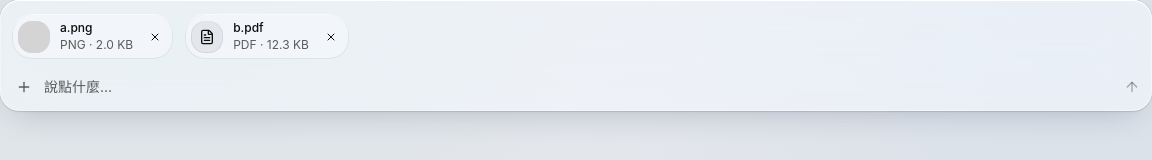
Test case: 附件列 › 移除鈕：該張消失並 revoke 預覽網址，其他留著；沒有附件時整列不畫
Click the button named "移除 a.png".
click(155, 36)  # box [143,24,167,48]
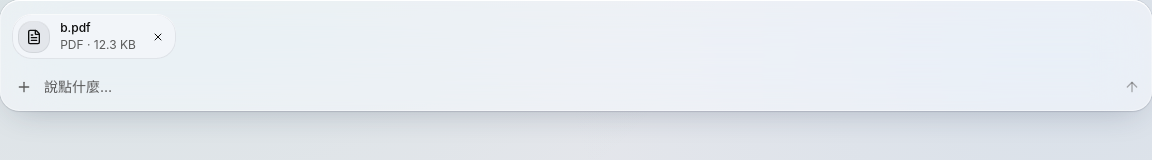
expect the number of buttons with test id "draft-attachment" is 1: met, box [12,14,176,59]
Click the button named "移除 b.pdf".
click(158, 36)  # box [146,24,170,48]
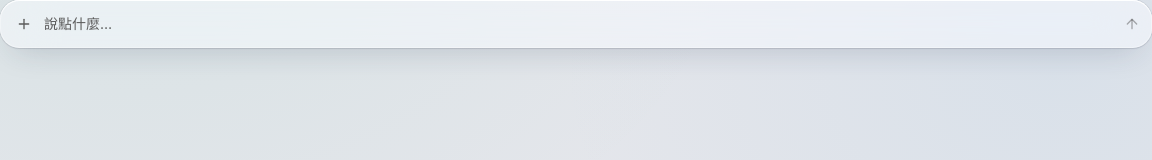
expect the element with test id "attachment-rail" is gone: met
